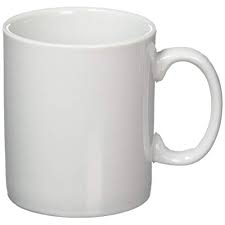cup: (2, 4, 223, 218)
